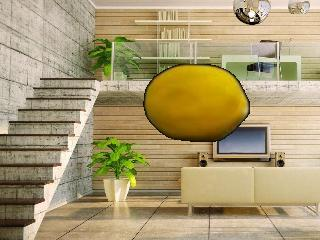lemon: (144, 65, 249, 141)
